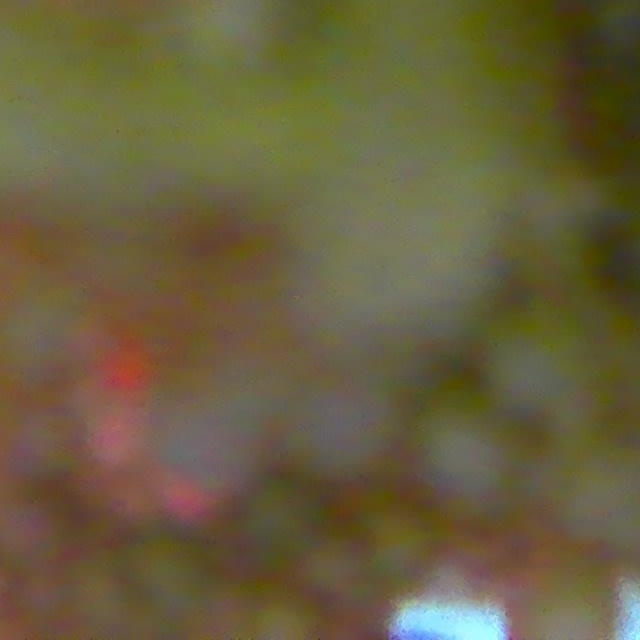SeaGrape: (488, 304, 622, 453), (264, 382, 393, 475), (416, 408, 522, 507), (502, 556, 622, 639), (137, 533, 214, 627), (350, 513, 434, 593), (565, 464, 640, 553), (236, 493, 330, 564), (0, 493, 71, 567), (64, 573, 130, 636), (245, 593, 322, 640)
